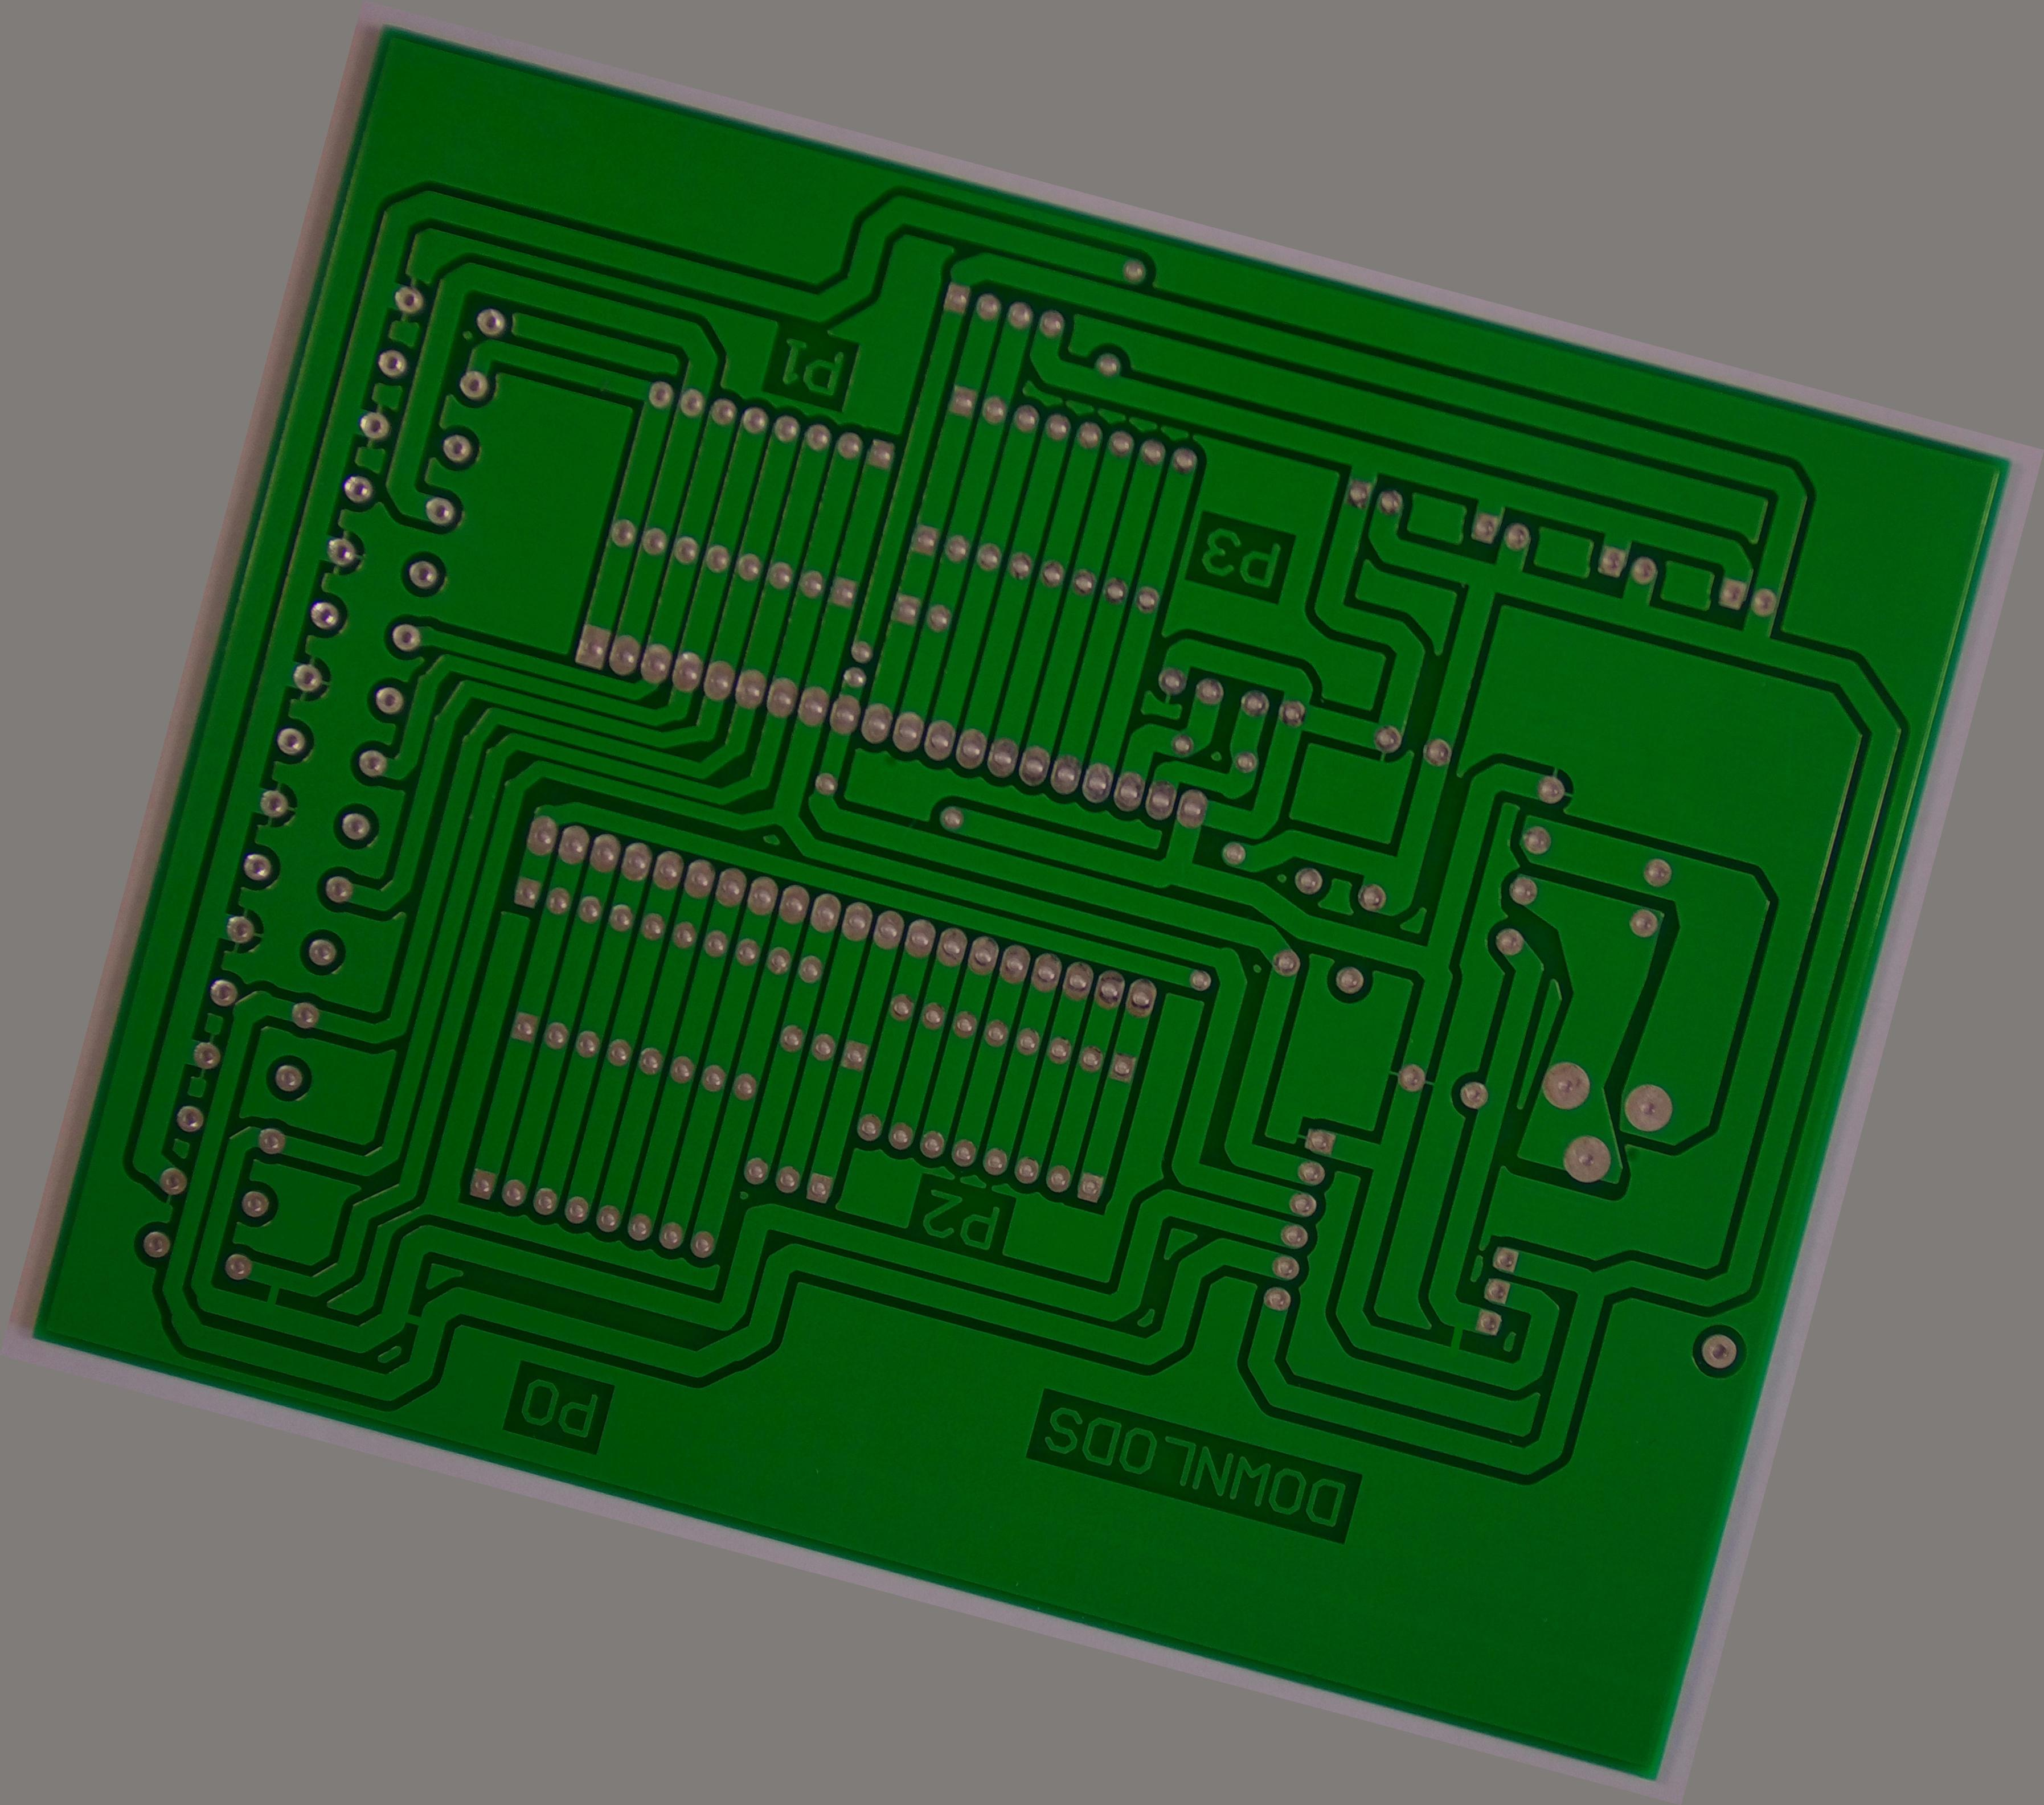short: (1417, 1288, 1499, 1375), (232, 1253, 307, 1329), (376, 1284, 444, 1352)
